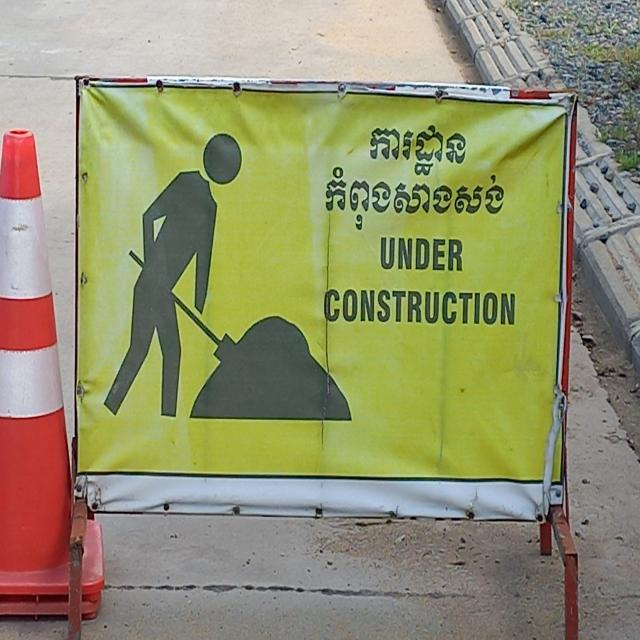Yolov11_80vkh: (322, 165, 513, 231), (370, 124, 473, 177)
